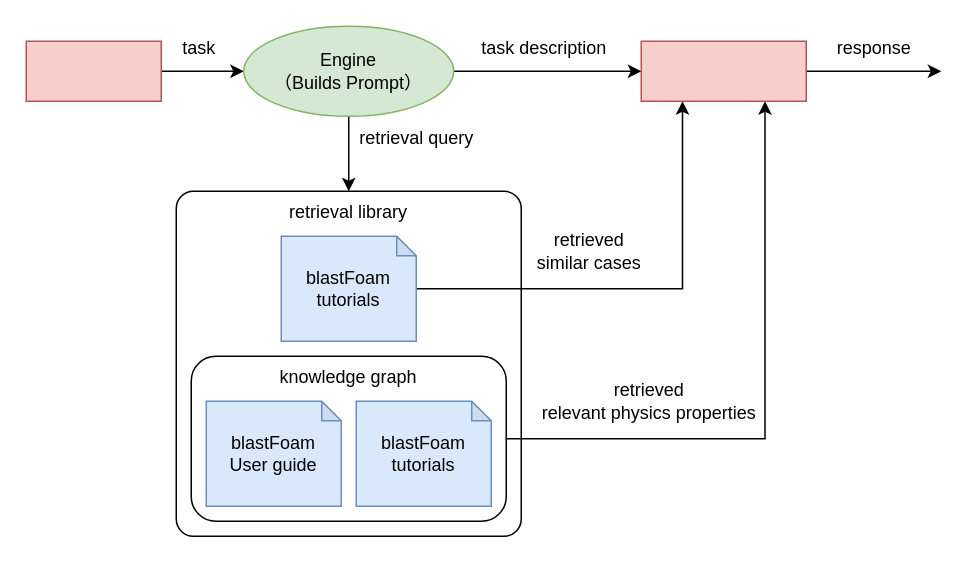
This 980x563 diagram has some shape labels left out. Here are the shapes that lost their labels. From the top down, the centre of each, then its label:
point 93,70: Orchestrator
point 723,70: Agent
